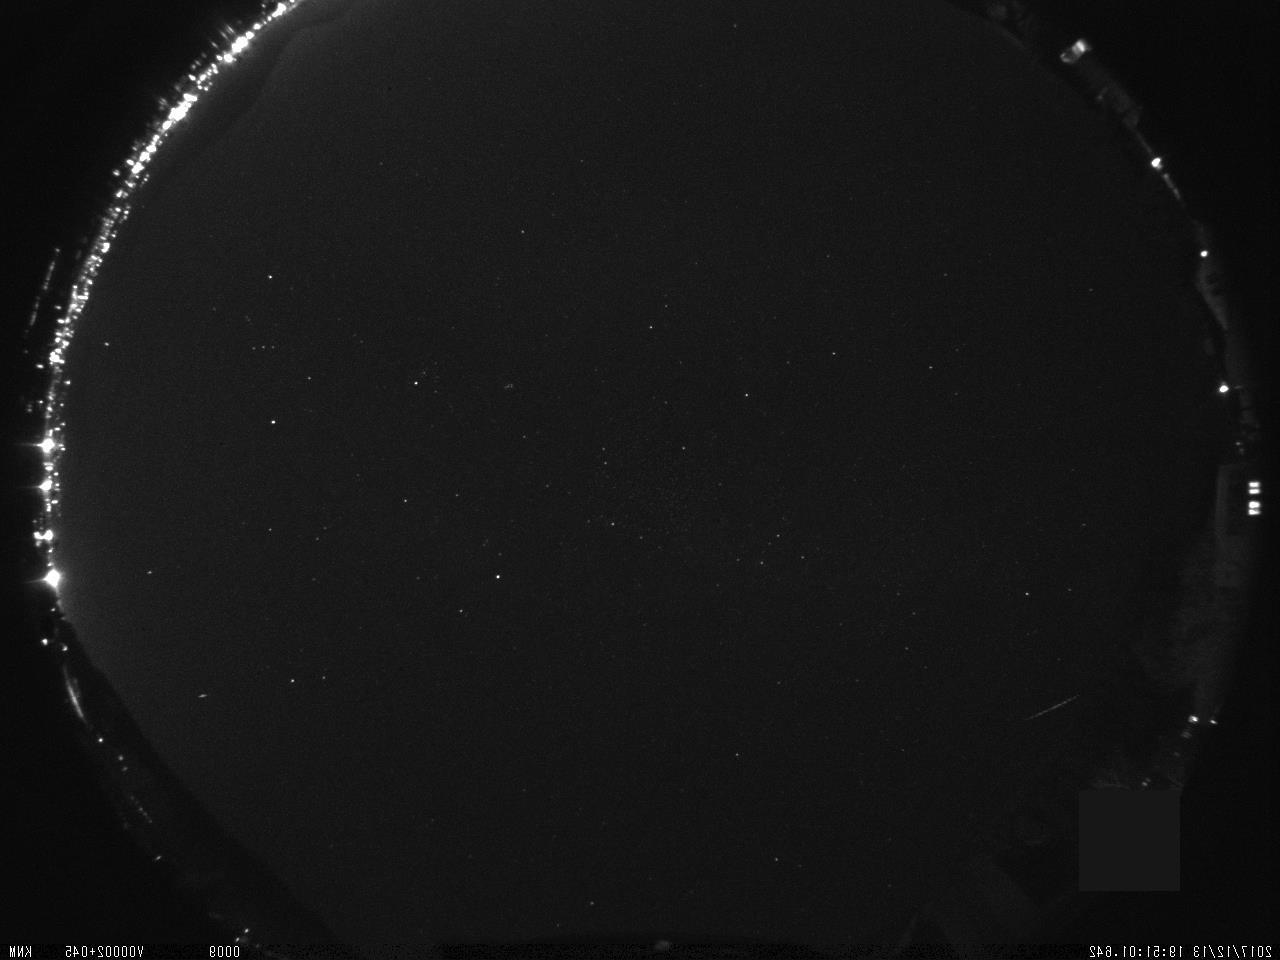meteor: (992, 676, 1090, 739)
